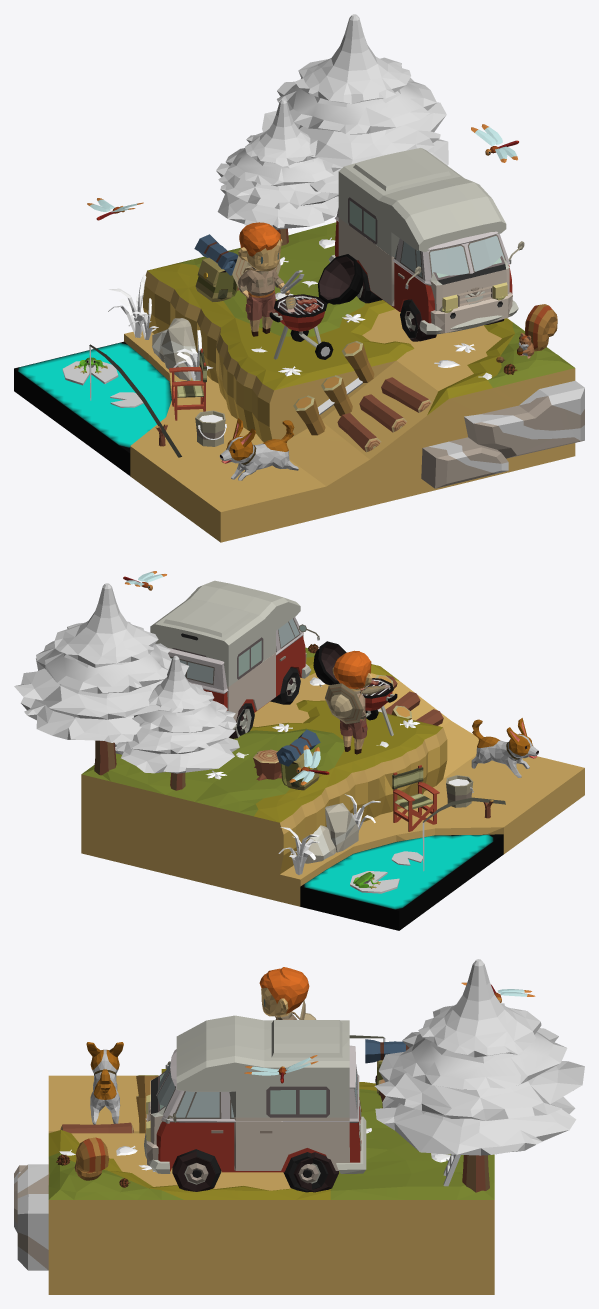
The model's file is 0018_camping.fbx.
The picture shows the model from 3 angles, top to bottom: view 1: azimuth 30°, elevation 25°; view 2: azimuth 150°, elevation 25°; view 3: azimuth 270°, elevation 25°; orthographic projection. The views are drawn at different scales.
Visible parts, largest first — view 1: plate, campingcar_upper (×2), [water], campingcar_lower (×2), leaf4 (×2), leaf3 (×2), leaf2 (×2), grill, leaf1 (×2), wood (×3), Woodenpole (×3), man_head (+12 smaller); view 2: plate, [water], campingcar_upper (×2), leaf4 (×2), leaf3 (×2), leaf2 (×2), leaf1 (×2), campingcar_lower (×2), chair, grill, dog_up, man_head (+12 smaller); view 3: plate, campingcar_upper (×2), campingcar_lower (×2), leaf2, leaf1, leaf4, leaf3, tire (×4), man_head, wood (×2), squirrel_tail, dog_low (+3 smaller).
Boxes of the visible parts, bbox=[...] form: plate: bbox=[124, 222, 584, 542]; campingcar_upper (×2): bbox=[334, 148, 509, 285]; [water]: bbox=[14, 341, 171, 475]; campingcar_lower (×2): bbox=[328, 218, 518, 334]; leaf4 (×2): bbox=[245, 14, 410, 166]; leaf3 (×2): bbox=[216, 78, 436, 209]; leaf2 (×2): bbox=[225, 102, 446, 186]; grill: bbox=[269, 254, 363, 359]; leaf1 (×2): bbox=[217, 139, 448, 229]; wood (×3): bbox=[337, 377, 431, 452]; Woodenpole (×3): bbox=[293, 341, 374, 435]; man_head: bbox=[238, 222, 282, 271]; plate: bbox=[81, 647, 584, 906]; [water]: bbox=[300, 834, 503, 930]; campingcar_upper (×2): bbox=[150, 580, 303, 693]; leaf4 (×2): bbox=[54, 583, 214, 712]; leaf3 (×2): bbox=[36, 641, 236, 753]; leaf2 (×2): bbox=[14, 658, 227, 732]; leaf1 (×2): bbox=[21, 697, 239, 773]; campingcar_lower (×2): bbox=[203, 632, 311, 729]; chair: bbox=[392, 765, 439, 831]; grill: bbox=[313, 641, 397, 735]; dog_up: bbox=[495, 718, 538, 777]; man_head: bbox=[332, 650, 372, 691]; plate: bbox=[14, 1069, 494, 1294]; campingcar_upper (×2): bbox=[151, 1015, 359, 1122]; campingcar_lower (×2): bbox=[144, 1080, 366, 1173]; leaf2: bbox=[374, 1052, 584, 1120]; leaf1: bbox=[375, 1096, 576, 1155]; leaf4: bbox=[418, 959, 541, 1057]; leaf3: bbox=[399, 1028, 567, 1089]; tire (×4): bbox=[172, 1149, 338, 1192]; man_head: bbox=[259, 967, 309, 1017]; wood (×2): bbox=[60, 1122, 489, 1192]; squirrel_tail: bbox=[76, 1137, 108, 1180]; dog_low: bbox=[90, 1069, 120, 1124].
Size of the model in its own units: 11.56 by 7.91 by 12.66.
